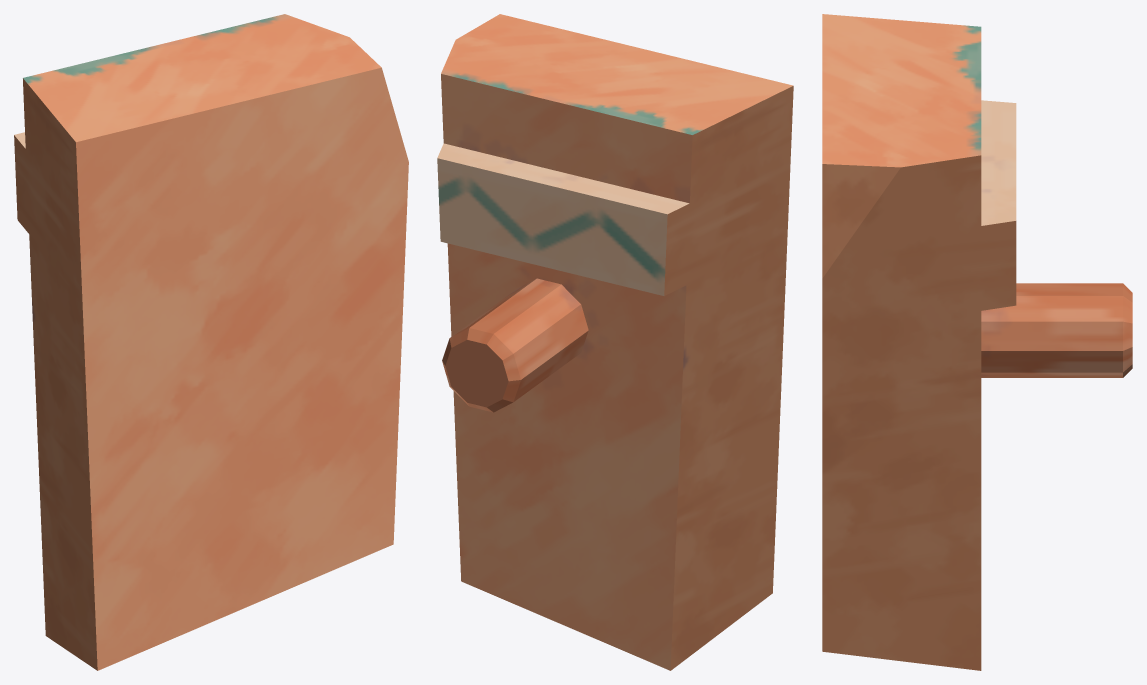
File: wall2_plain_s02.fbx
The picture shows the model from 3 angles, left to right: view 1: azimuth 30°, elevation 25°; view 2: azimuth 150°, elevation 25°; view 3: azimuth 270°, elevation 25°; orthographic projection. The views are drawn at different scales.
Parts seen in each view (by area): view 1: wall2_plain_s02; view 2: wall2_plain_s02; view 3: wall2_plain_s02.
Boxes of the visible parts, x1,y1,x2,y2 form: wall2_plain_s02: (14, 14, 408, 670); wall2_plain_s02: (437, 14, 793, 670); wall2_plain_s02: (822, 14, 1132, 670).
Size of the model in its own units: 2.43 by 3.93 by 1.95.
